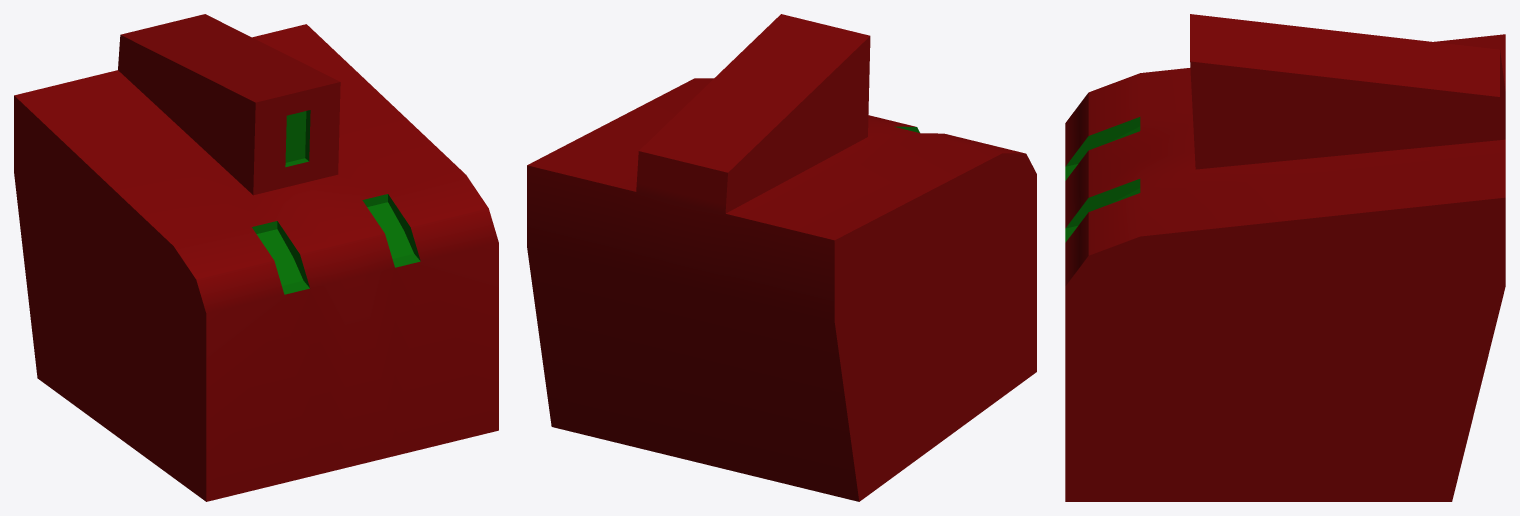
Rendered from TowerTopLight_v2.fbx.
3 renders of one model, left to right at view 1: azimuth 30°, elevation 25°; view 2: azimuth 150°, elevation 25°; view 3: azimuth 270°, elevation 25°, orthographic. The views are drawn at different scales.
Visible parts, largest first — view 1: TowerLightTop; view 2: TowerLightTop; view 3: TowerLightTop.
Part boxes in pixels (x1,y1,x2,y2): TowerLightTop: [14, 14, 498, 501]; TowerLightTop: [527, 14, 1036, 501]; TowerLightTop: [1065, 14, 1505, 501].
Size of the model in its own units: 0.5987 by 0.6536 by 0.6817.
